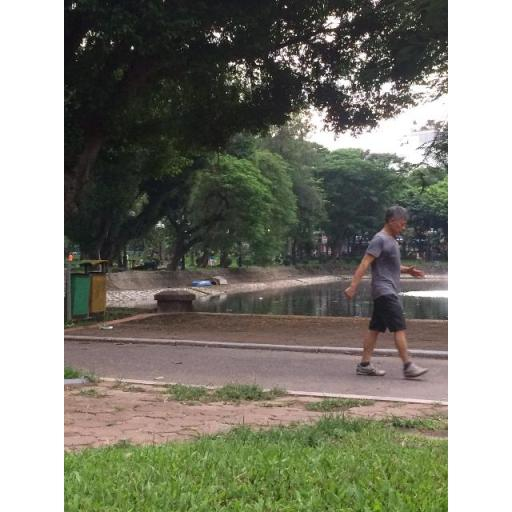Running: (336, 198, 434, 384)
